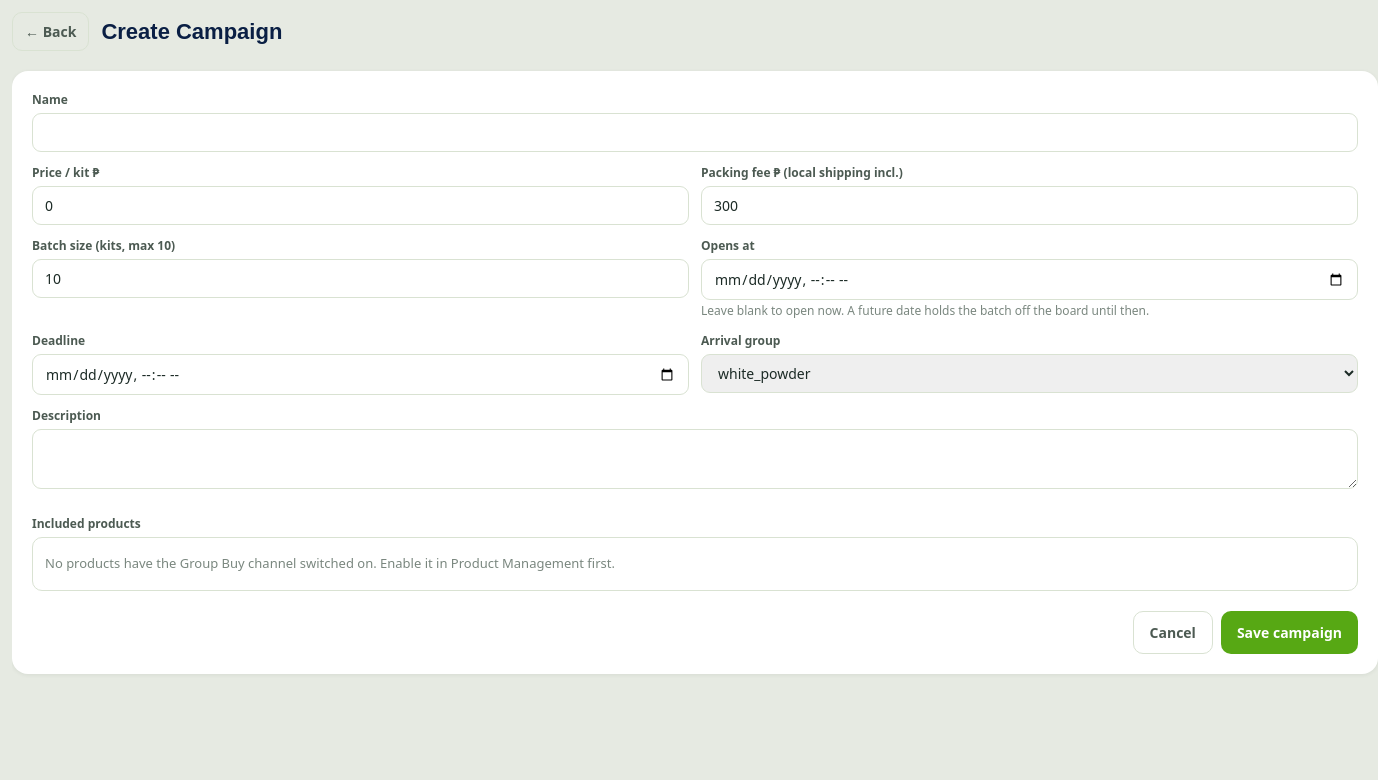
Test: saving › shows the reason and keeps the draft when the save fails
Type "Retatrutide 30mg" into the field labelled "Name" at (695, 132), box [32, 113, 1358, 152]
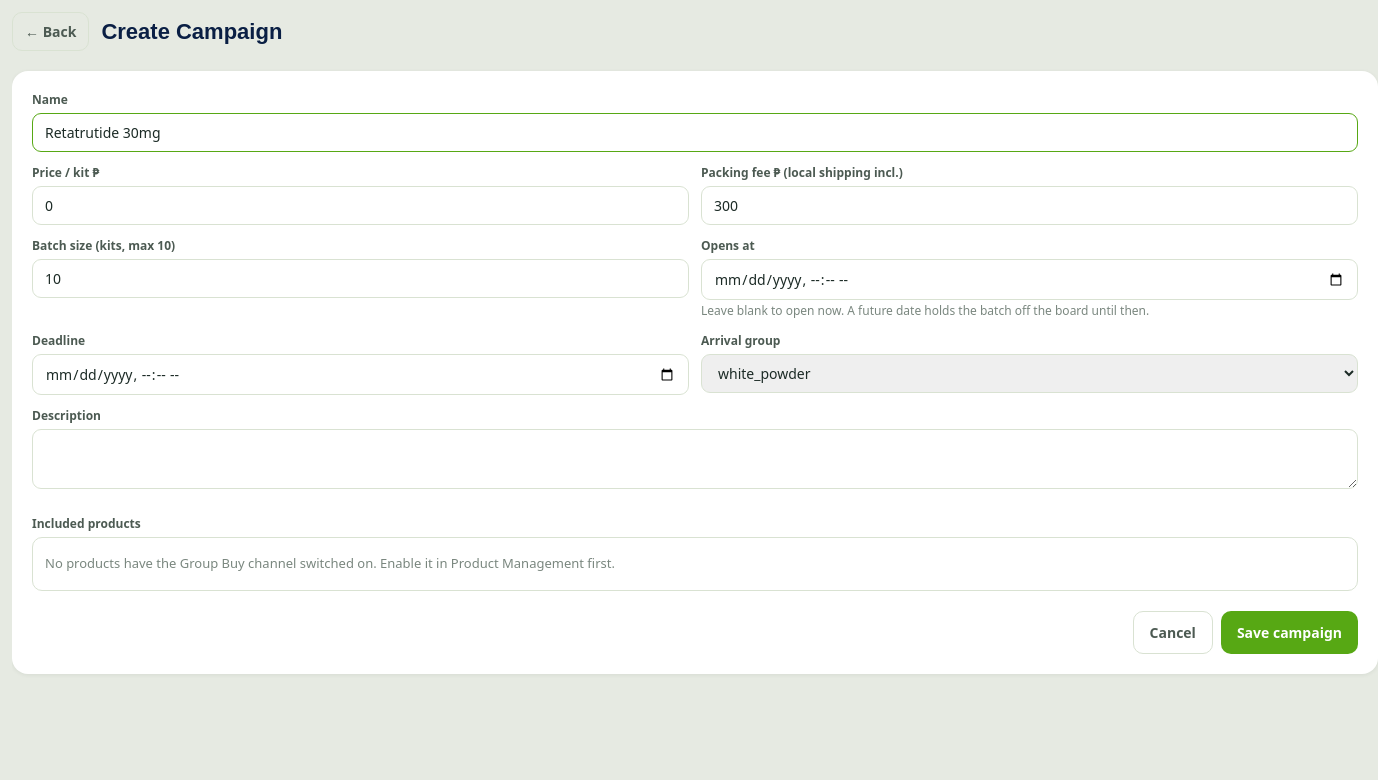
Replace the text in the number field labelled "Price / kit ₱" with "5200" at (360, 206), box [32, 186, 689, 225]
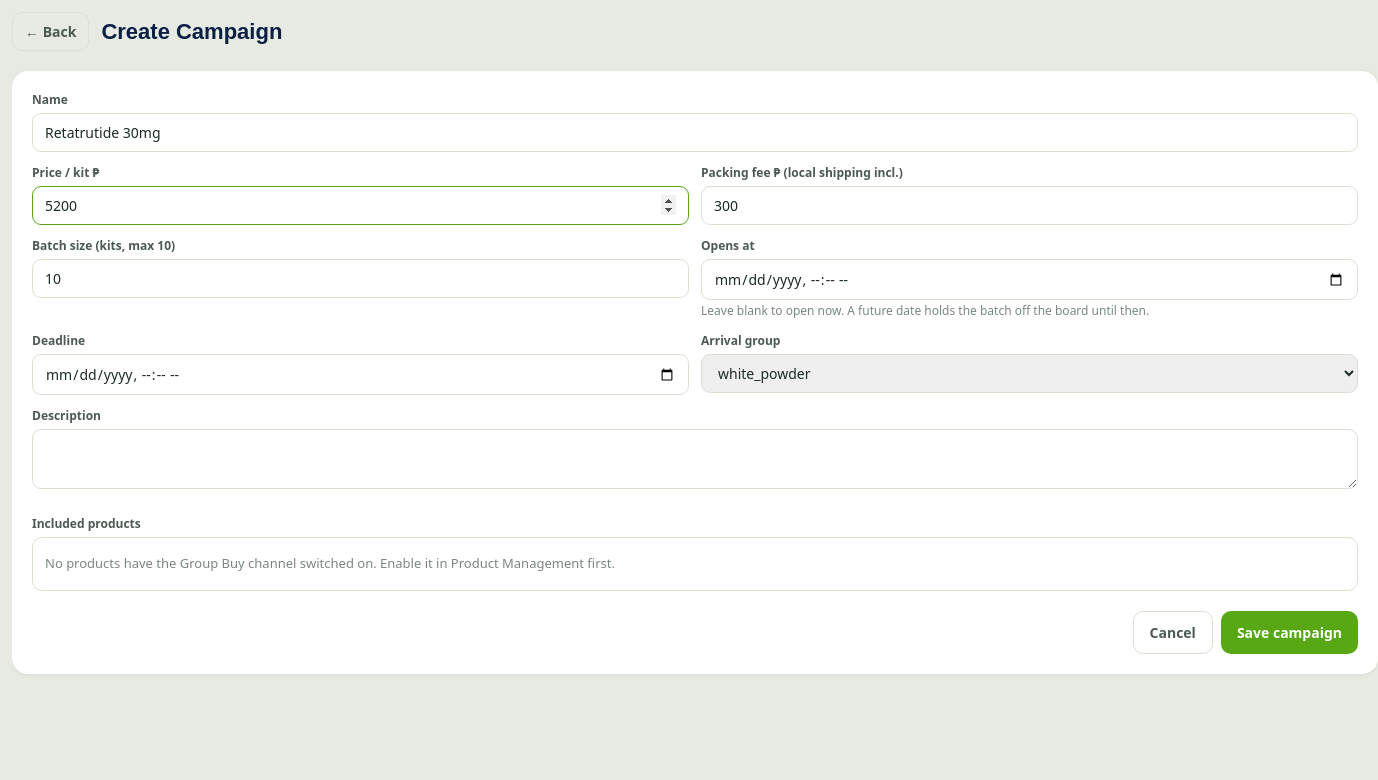
Click the button "Save campaign" at (1289, 632), box [1221, 610, 1358, 654]
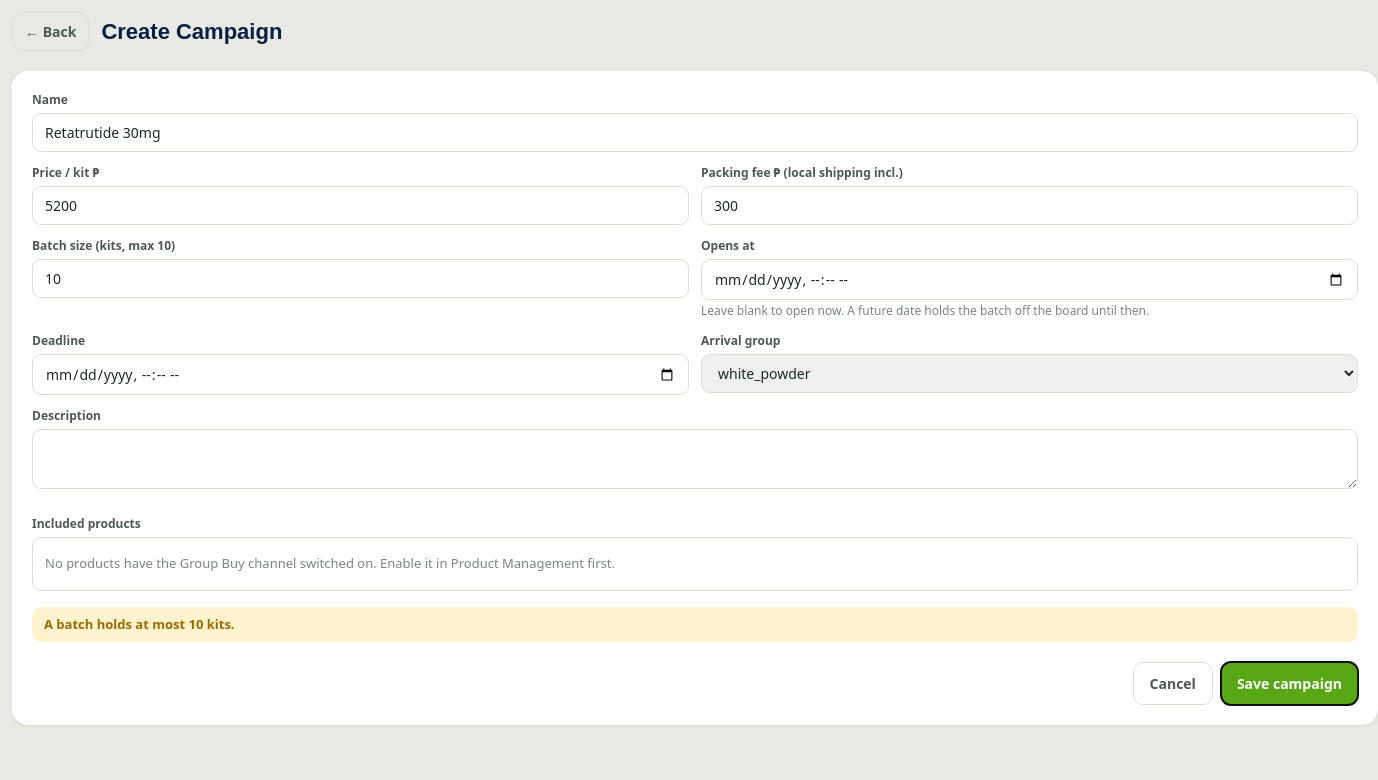
Expected: the message shows "at most 10 kits", [44, 614, 235, 632]
